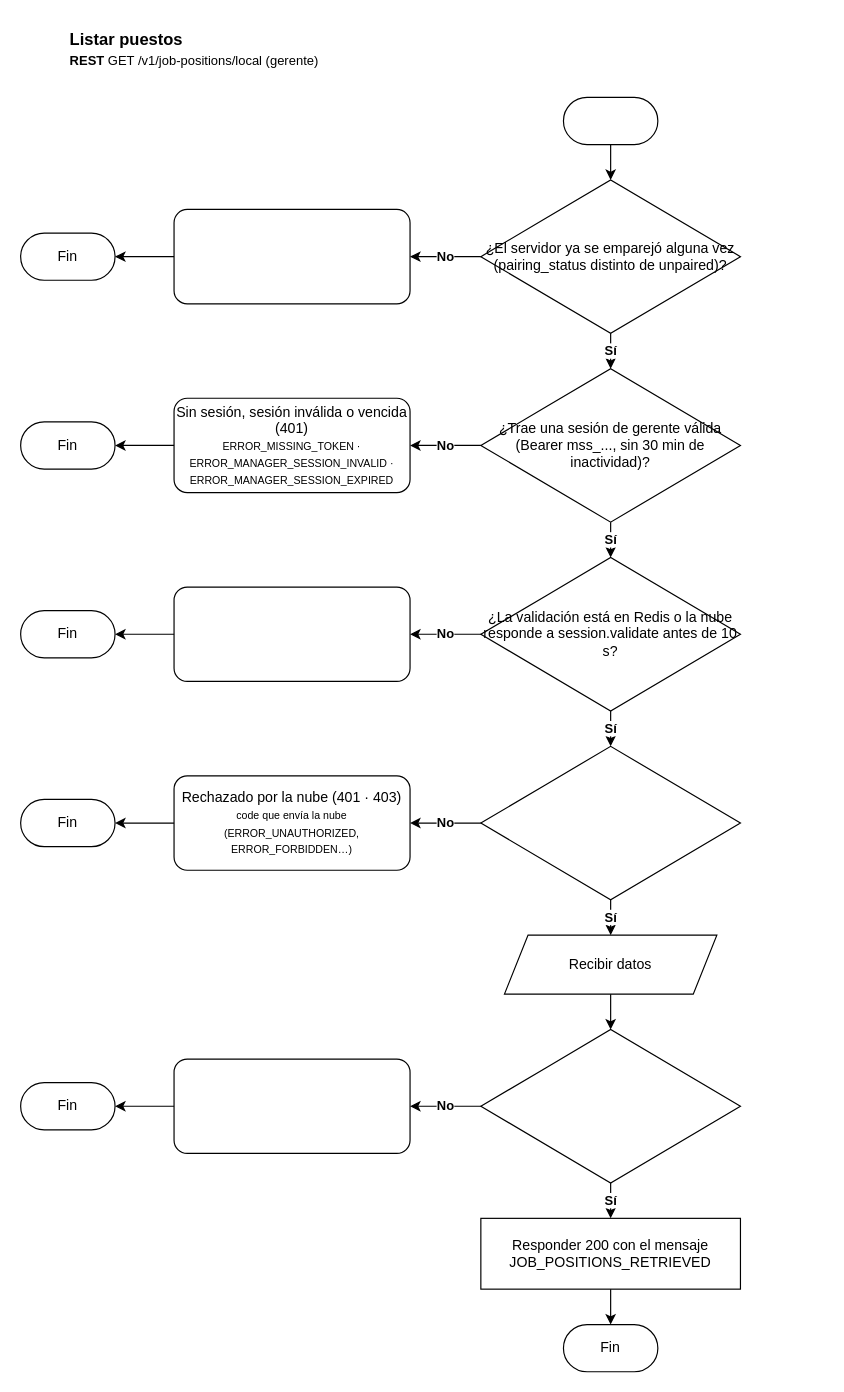
Some shapes in this 844 by 1392 pixel diagram are drawn without their labels. Here are the shapes that lost their labels. From the top down, the centre of each, then its label:
(610,120): Inicio
(291,256): Servidor sin emparejar (409) ERROR_SERVER_NOT_PAIRED
(291,633): La nube no responde (503) ERROR_CLOUD_UNAVAILABLE · ERROR_SERVER_UNLINKED
(610,822): ¿La nube acepta la sesión del gerente con este servidor?
(291,1105): Datos inválidos (400) ERROR_BAD_REQUEST
(610,1105): ¿Los datos son válidos?
